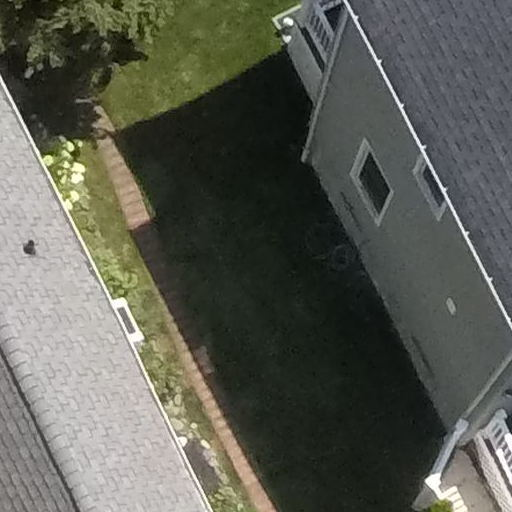hose: (325, 235, 362, 279)
